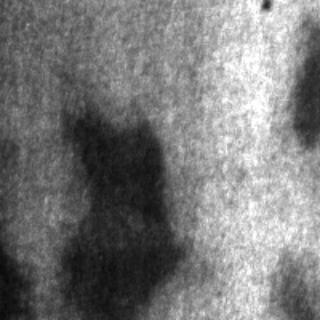patches: (68, 115, 168, 313), (263, 246, 317, 318), (292, 21, 318, 145), (1, 246, 34, 318)
